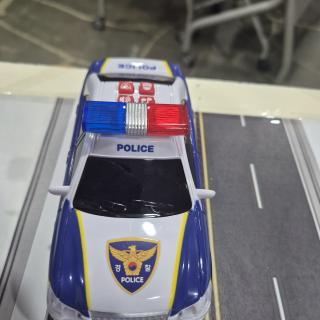Police_car: (47, 57, 215, 320)
